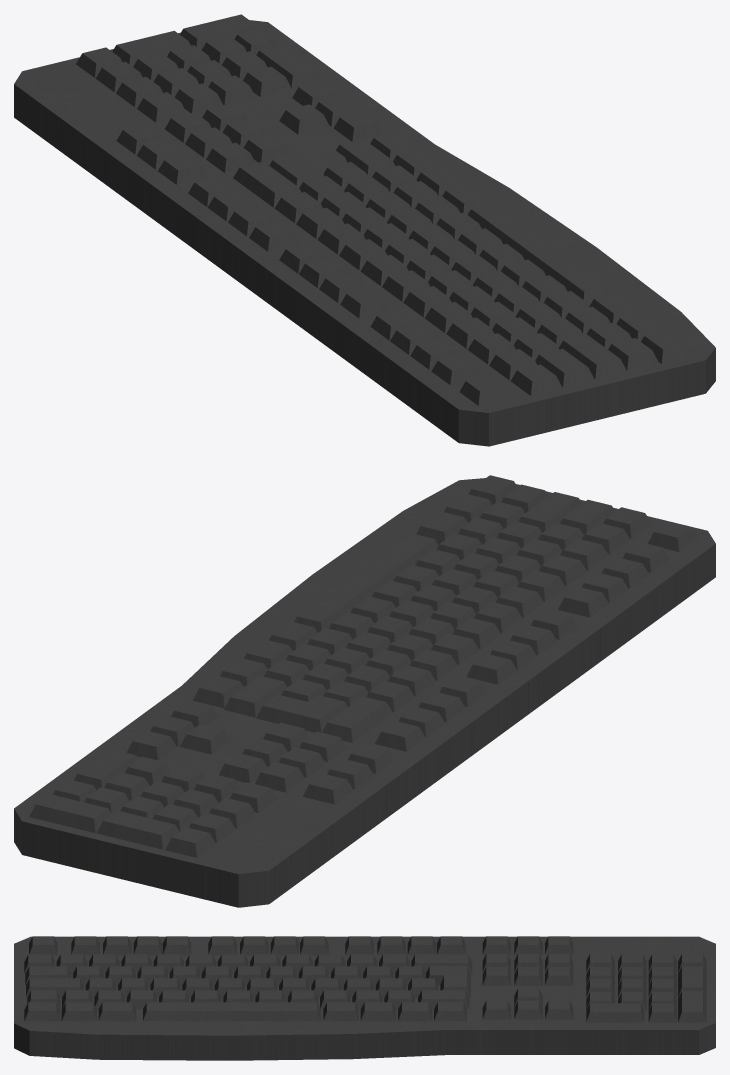
Rendered from SM_keyboard_a.fbx.
3 views of the same model, one above another, from view 1: azimuth 30°, elevation 25°; view 2: azimuth 150°, elevation 25°; view 3: azimuth 270°, elevation 25° (orthographic). The views are drawn at different scales.
Parts seen in each view (by area): view 1: polySurface386; view 2: polySurface386; view 3: polySurface386.
Boxes of the visible parts, x1,y1,x2,y2 form: polySurface386: (14, 14, 715, 446); polySurface386: (14, 475, 715, 907); polySurface386: (14, 936, 715, 1060).
Bounding box in the file's own units: 0.2462 × 0.0395 × 0.7383.
